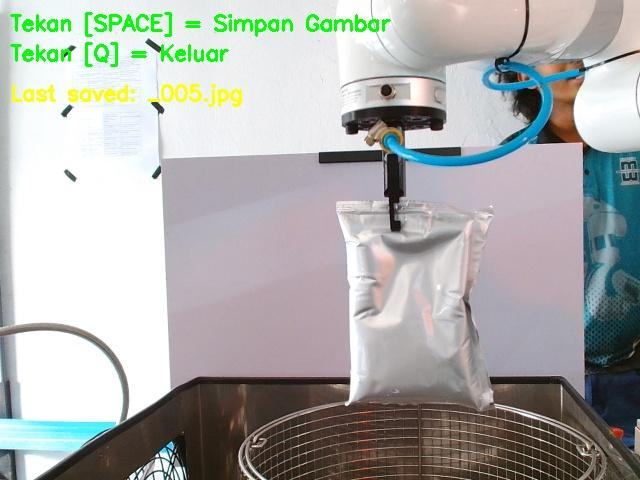retort-pouch: (335, 199, 497, 410)
